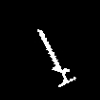double_crochet: (38, 29, 75, 86)
